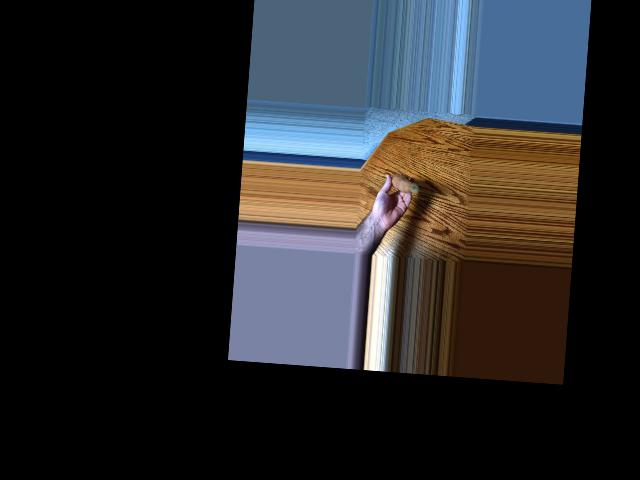sweet_potato: (388, 176, 419, 196)
